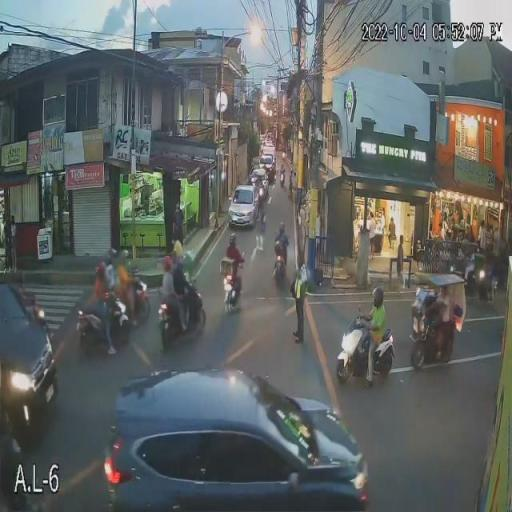helmet: (370, 287, 385, 307), (93, 259, 108, 276), (173, 241, 184, 263), (119, 248, 131, 266), (162, 255, 172, 271), (107, 247, 117, 260), (278, 221, 286, 233), (228, 234, 237, 244)
motorcycle: (335, 332, 397, 382), (159, 292, 207, 349), (76, 302, 130, 349), (94, 278, 118, 355), (221, 268, 241, 314), (132, 279, 150, 323), (272, 248, 288, 286)
rider: (363, 308, 387, 388), (160, 272, 187, 334), (225, 242, 243, 279), (174, 270, 185, 312), (118, 268, 131, 296), (276, 233, 288, 257), (109, 261, 116, 281)
